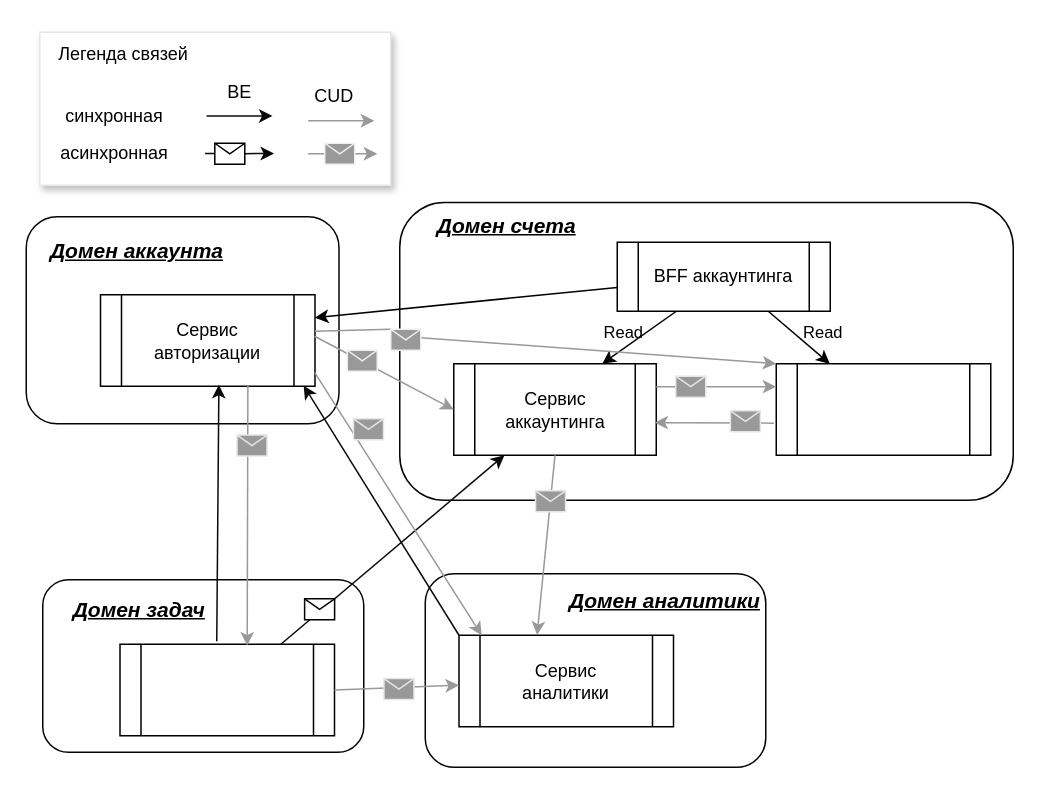
Some shapes in this 1040 by 794 pixel diagram are drawn without their labels. Here are the shapes that lost their labels. From the top down, the centre of each, then its label:
point 883,408: Сервис выплат
point 226,689: Сервис таск-трекинга
